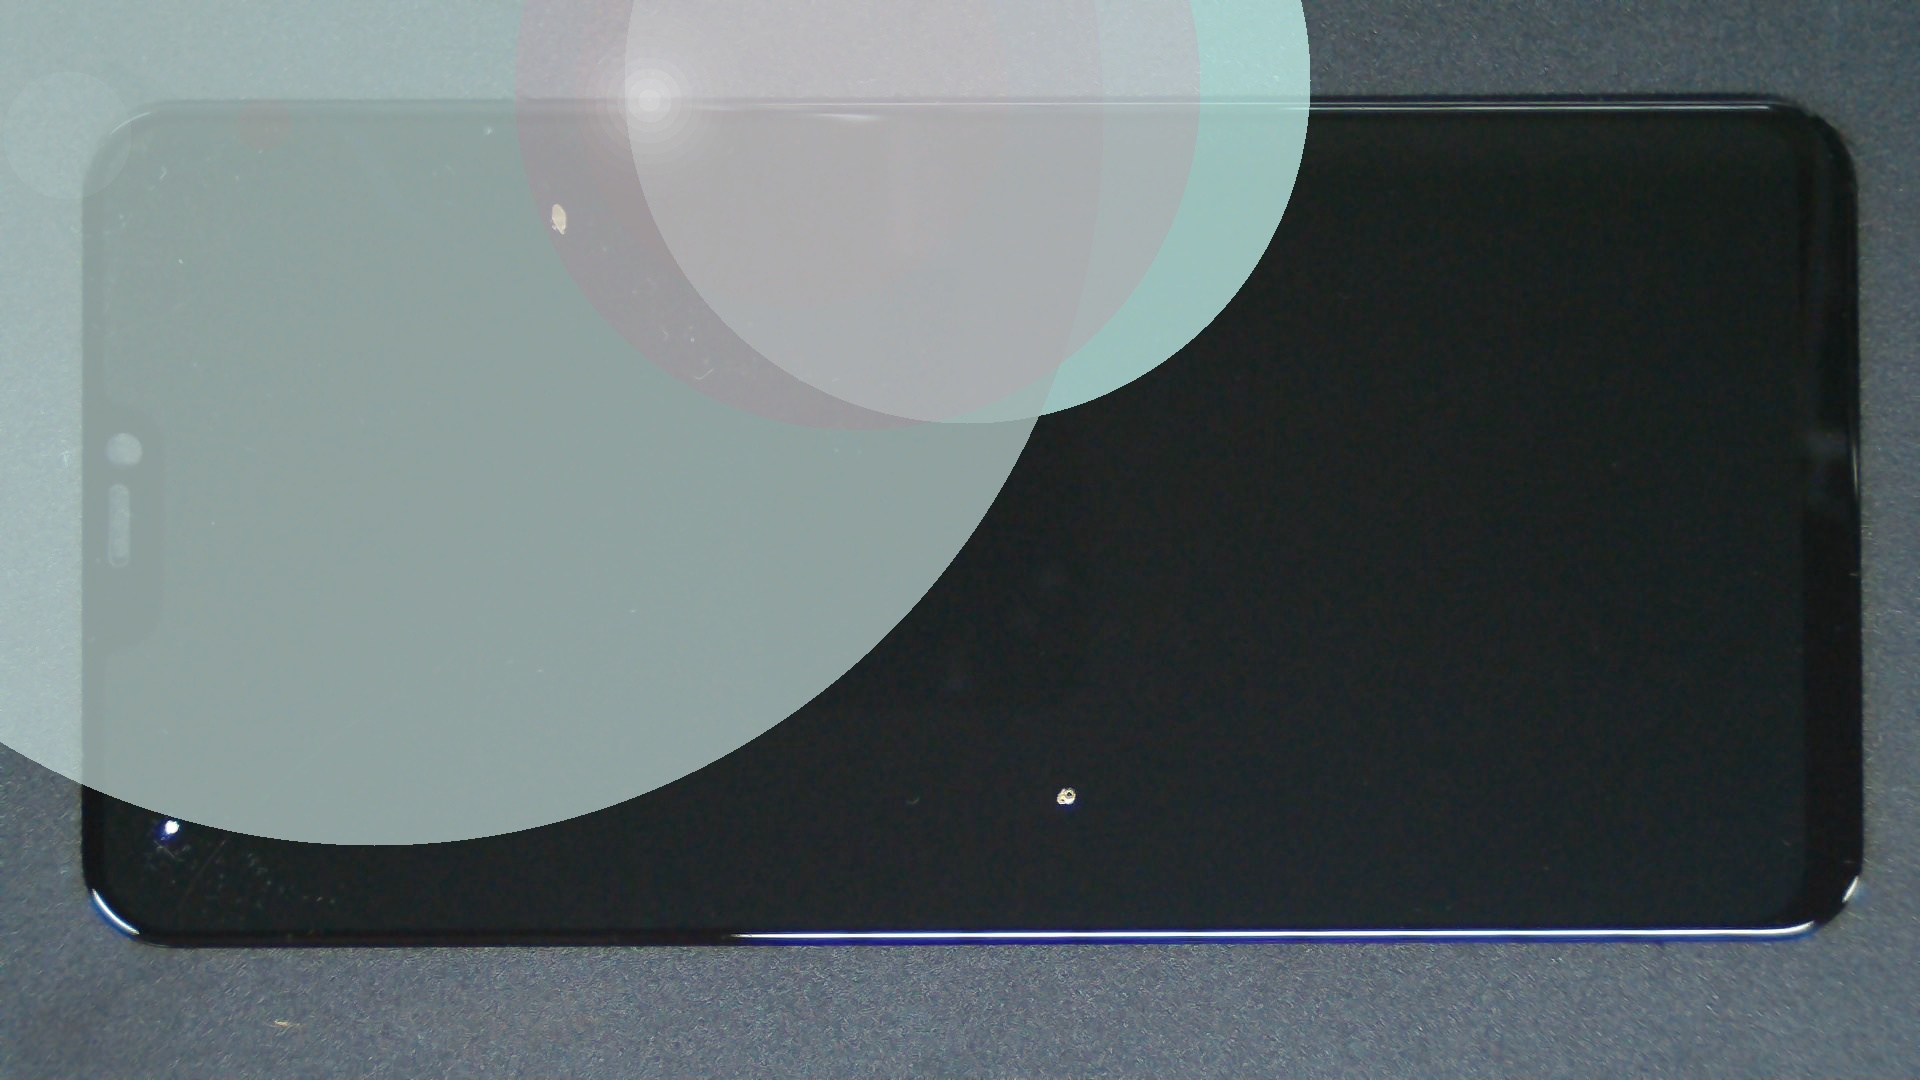oil: (531, 393, 1593, 1080), (278, 99, 833, 301), (88, 406, 251, 1080)
